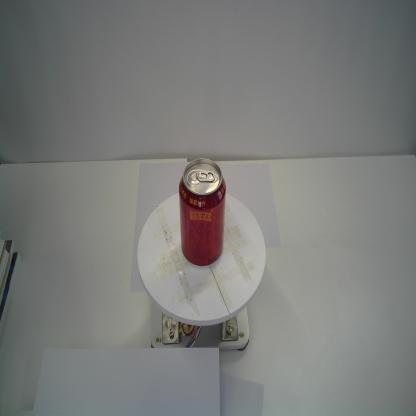Drink: (178, 157, 227, 270)
